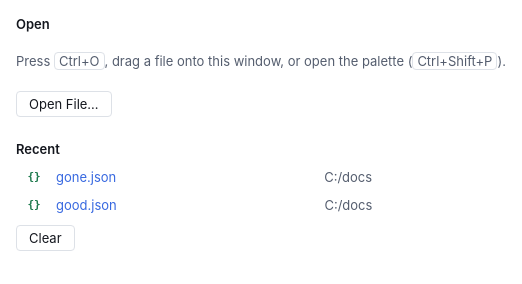
Test case: R97 — a stale entry › a click on a missing file shows the error, drops the entry, and leaves the list usable
What coordinates should you click on to do the following:
click the button with class "document-area-recent-name" showing "gone.json"
I would click on:
 (184, 177)
Its box is [56,169,312,185].
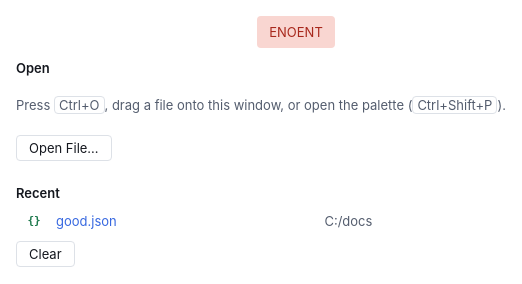
Now the message "ENOENT" is shown, box [257,16,335,48]
